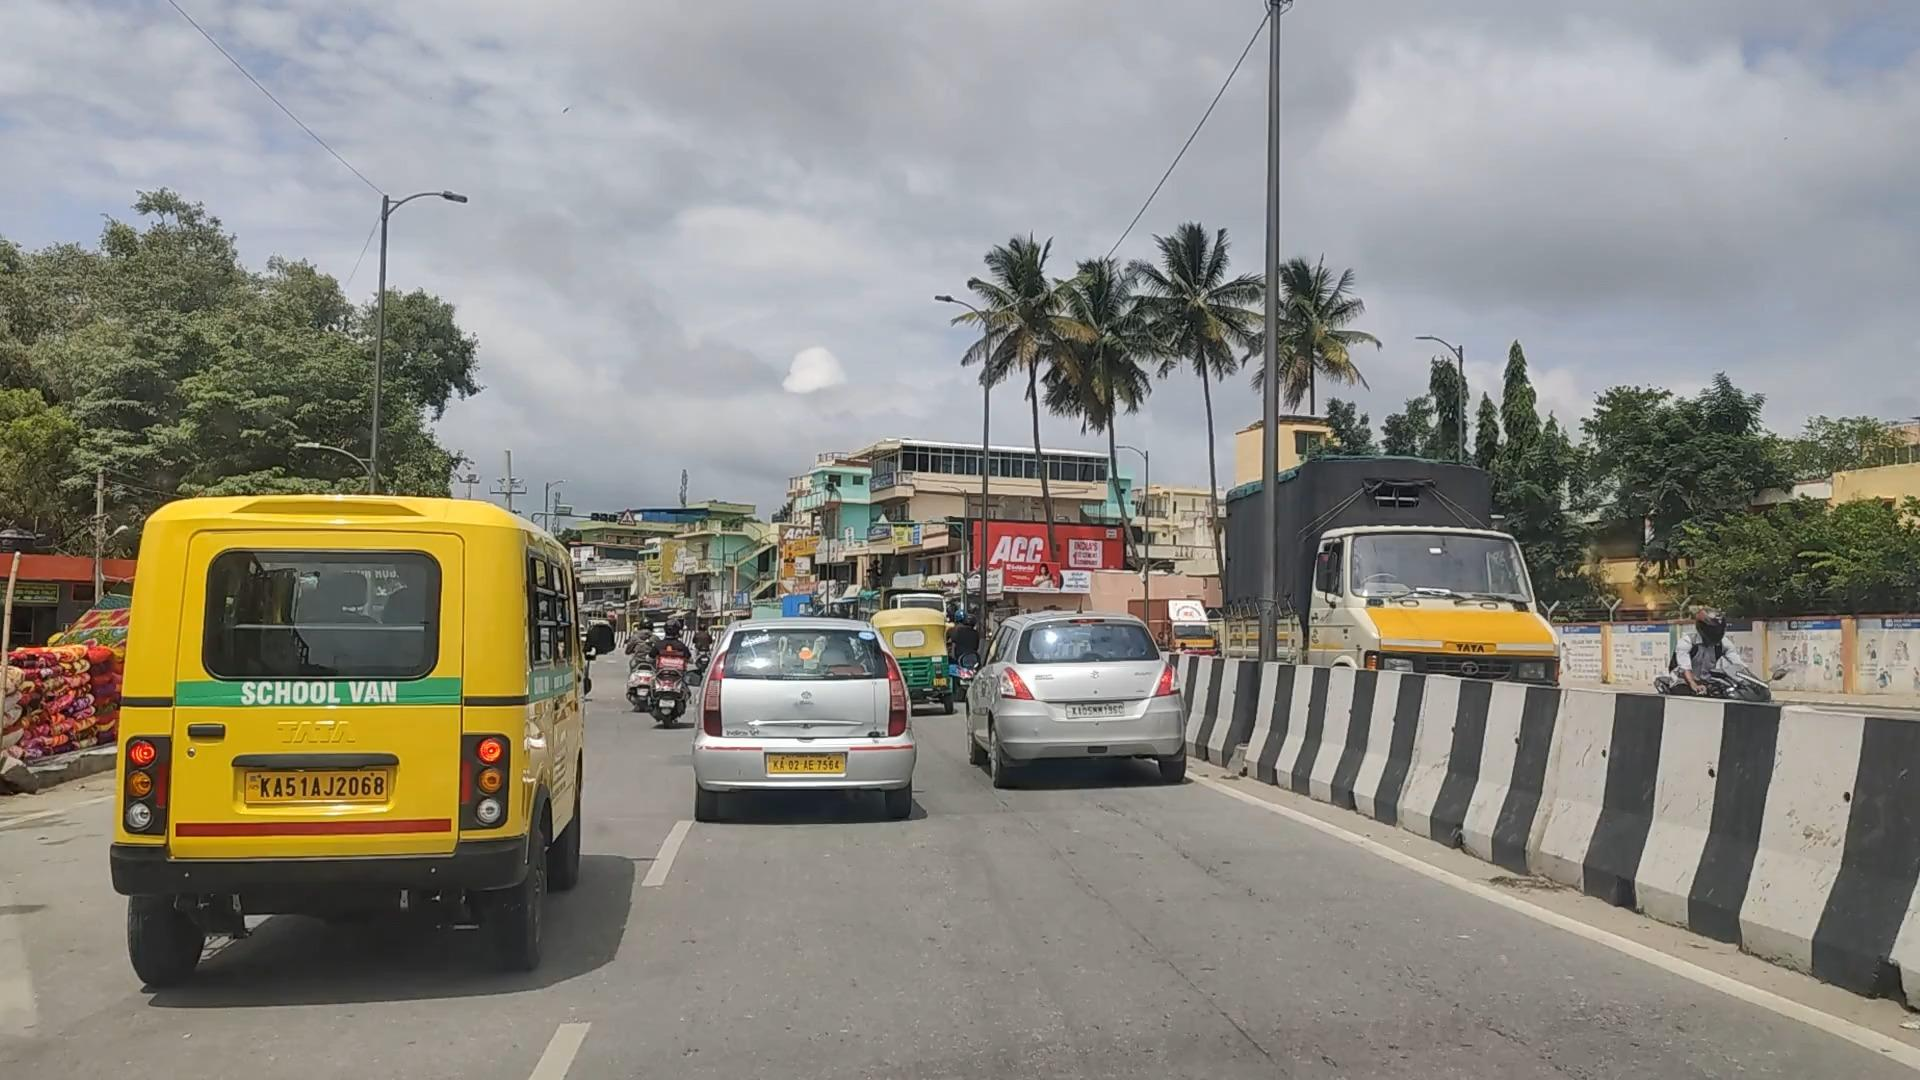LMV: (108, 430, 615, 998), (688, 587, 920, 829), (967, 580, 1189, 804)
